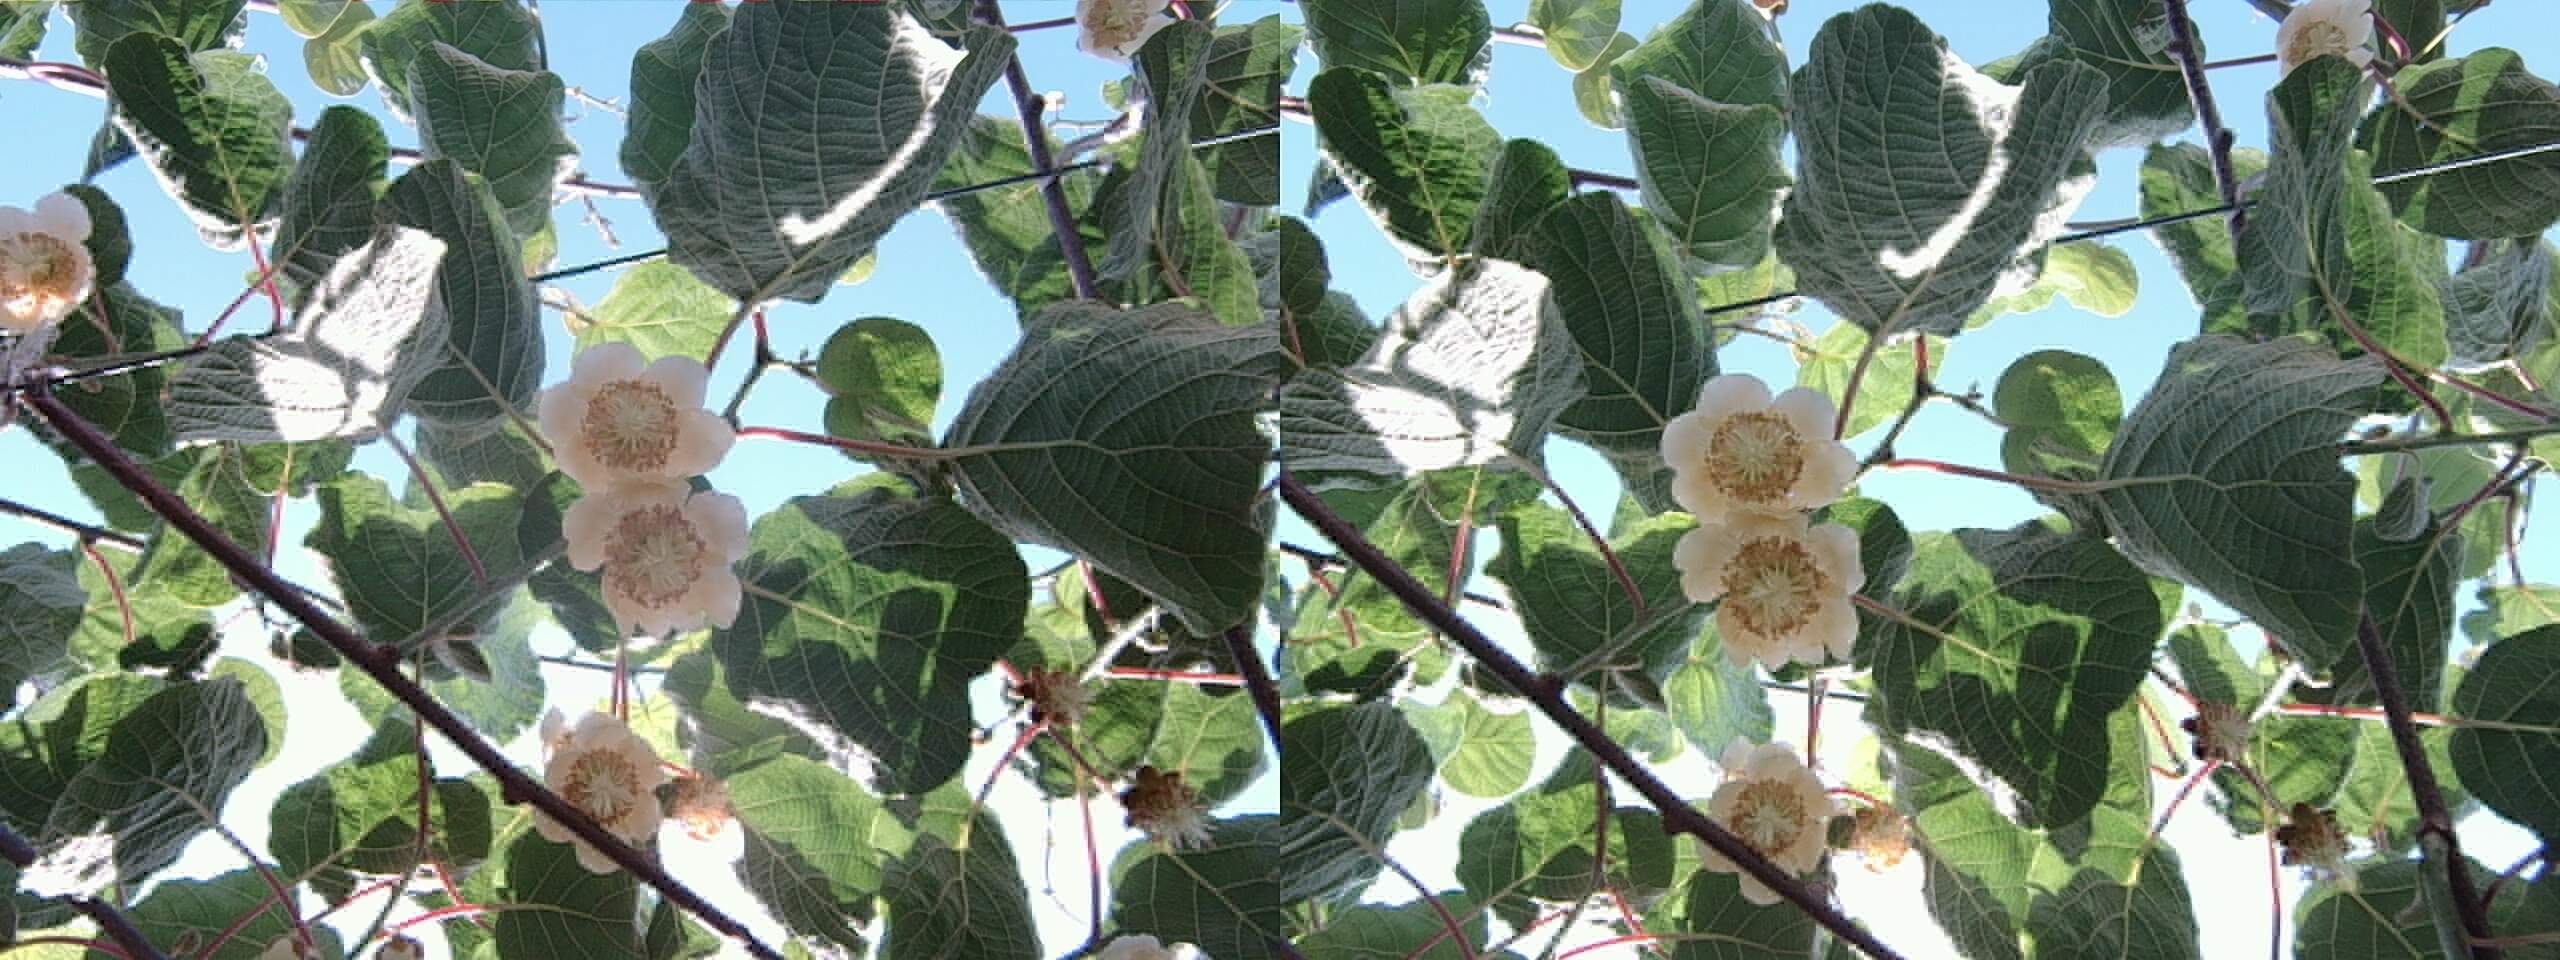flower: (1665, 506, 1876, 674), (555, 472, 754, 642), (1656, 367, 1863, 527), (540, 344, 730, 501), (531, 702, 696, 851), (1704, 741, 1861, 878), (3, 199, 98, 333)
